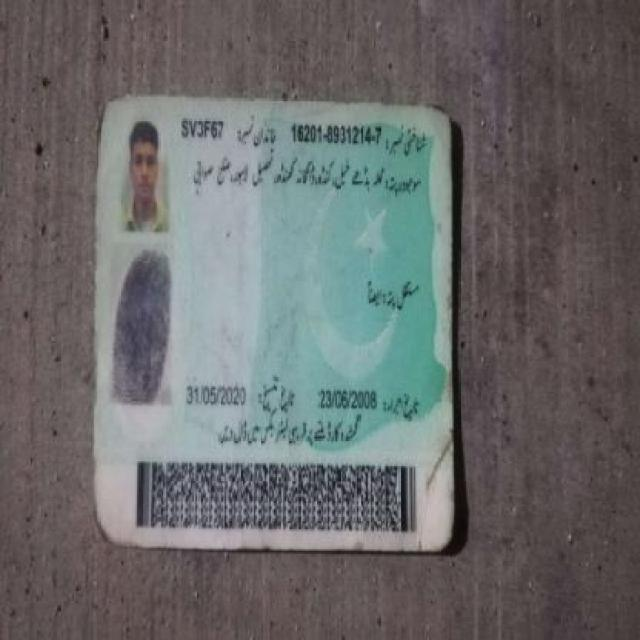Back: (85, 83, 463, 554)
